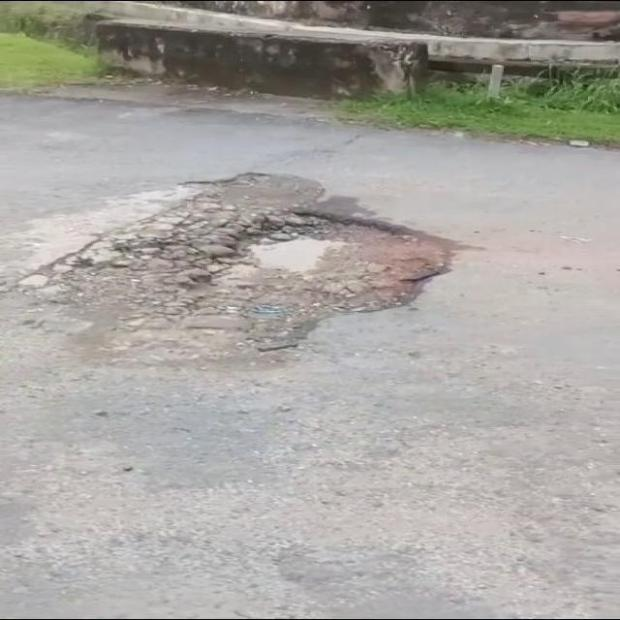lubang: (0, 172, 451, 354)
